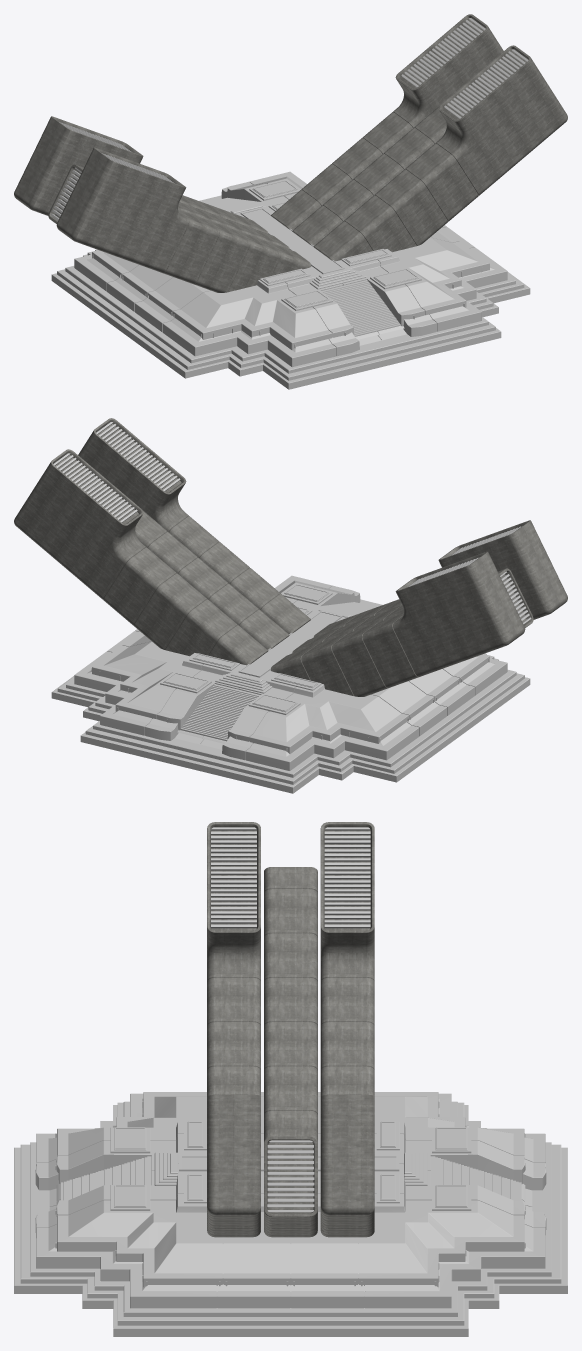
Rendered from Kitbash3D_Brutalist_Structure02.fbx.
3 views of the same model, one above another, from view 1: azimuth 30°, elevation 25°; view 2: azimuth 150°, elevation 25°; view 3: azimuth 270°, elevation 25° (orthographic). The views are drawn at different scales.
Parts seen in each view (by area): view 1: M_Sm_Bldg_F_Base, M_Sm_Bldg_F_Vent_Tower_RT, M_Sm_Bldg_F_Vent_Tower_LT, M_Sm_Bldg_F_Vent_Slats, M_Sm_Bldg_F_Stairs, M_Sm_Bldg_F_Window, M_Sm_Bldg_F_ConcGeneral.001; view 2: M_Sm_Bldg_F_Base, M_Sm_Bldg_F_Vent_Tower_RT, M_Sm_Bldg_F_Vent_Tower_LT, M_Sm_Bldg_F_Vent_Slats, M_Sm_Bldg_F_Stairs, M_Sm_Bldg_F_Window, M_Sm_Bldg_F_ConcGeneral.001; view 3: M_Sm_Bldg_F_Base, M_Sm_Bldg_F_Vent_Tower_LT, M_Sm_Bldg_F_Vent_Tower_RT, M_Sm_Bldg_F_Vent_Slats, M_Sm_Bldg_F_Stairs, M_Sm_Bldg_F_ConcGeneral.001, M_Sm_Bldg_F_Window.
Part boxes in pixels (box(x1,y1,x2,y2)): M_Sm_Bldg_F_Base: box(51, 171, 530, 389); M_Sm_Bldg_F_Vent_Tower_RT: box(271, 14, 567, 261); M_Sm_Bldg_F_Vent_Tower_LT: box(14, 116, 311, 292); M_Sm_Bldg_F_Vent_Slats: box(50, 18, 528, 220); M_Sm_Bldg_F_Stairs: box(205, 197, 400, 336); M_Sm_Bldg_F_Window: box(243, 181, 415, 306); M_Sm_Bldg_F_ConcGeneral.001: box(240, 179, 421, 310); M_Sm_Bldg_F_Base: box(51, 575, 530, 793); M_Sm_Bldg_F_Vent_Tower_RT: box(14, 418, 310, 665); M_Sm_Bldg_F_Vent_Tower_LT: box(270, 520, 567, 696); M_Sm_Bldg_F_Vent_Slats: box(53, 422, 531, 624); M_Sm_Bldg_F_Stairs: box(180, 602, 375, 741); M_Sm_Bldg_F_Window: box(166, 585, 339, 710); M_Sm_Bldg_F_ConcGeneral.001: box(160, 583, 342, 714); M_Sm_Bldg_F_Base: box(14, 1092, 567, 1336); M_Sm_Bldg_F_Vent_Tower_LT: box(207, 822, 374, 1143); M_Sm_Bldg_F_Vent_Tower_RT: box(207, 1094, 374, 1237); M_Sm_Bldg_F_Vent_Slats: box(211, 827, 370, 1212); M_Sm_Bldg_F_Stairs: box(61, 1152, 521, 1200); M_Sm_Bldg_F_ConcGeneral.001: box(110, 1121, 471, 1210); M_Sm_Bldg_F_Window: box(116, 1128, 465, 1205).
Bounding box in the file's own units: 6088 × 2357 × 4438.
